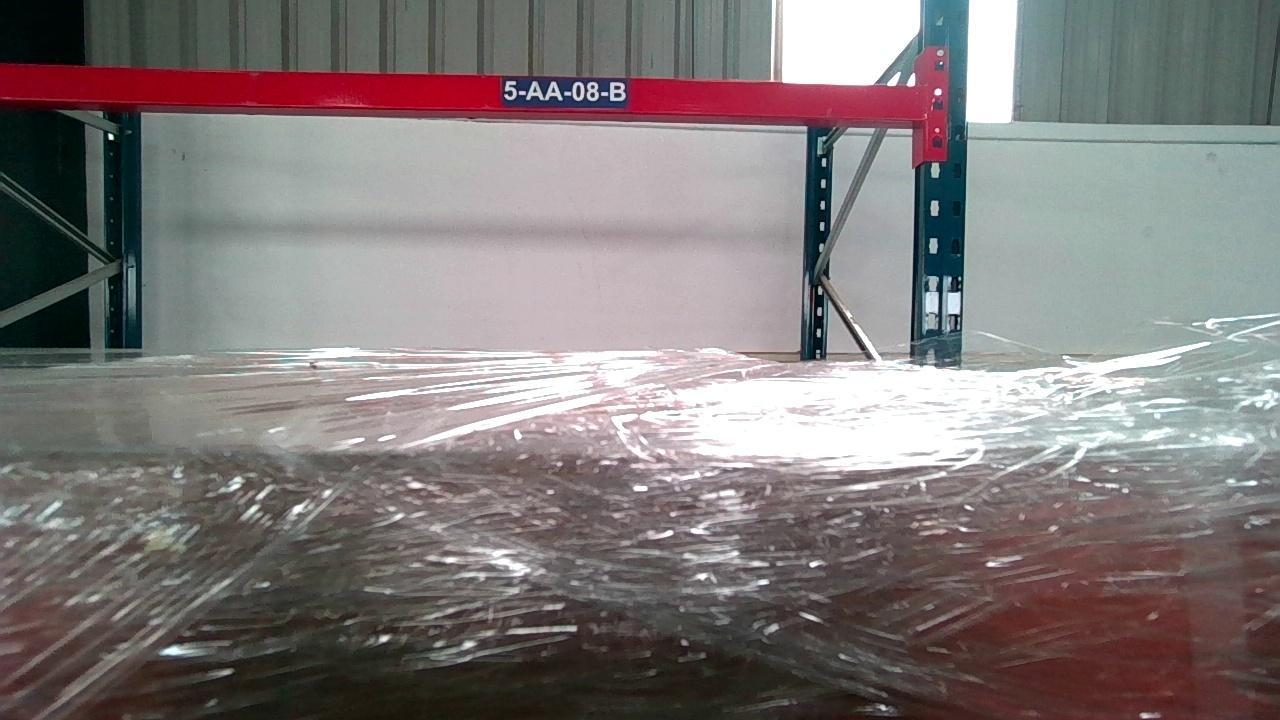h_rack: (0, 65, 928, 123)
